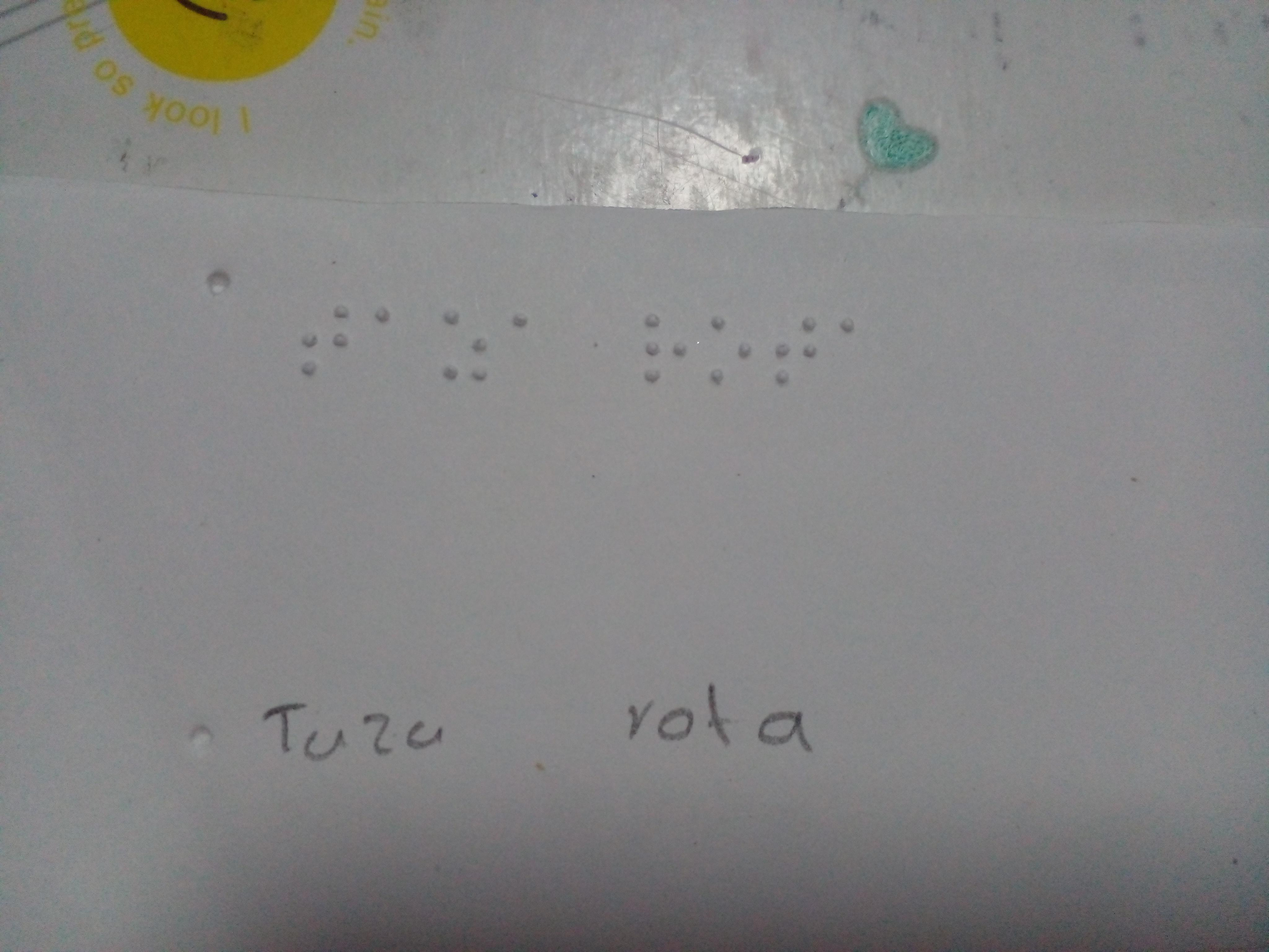a: (505, 307, 542, 346), (829, 307, 863, 349), (366, 298, 400, 339)
o: (702, 307, 753, 394)
r: (626, 299, 694, 384)
t: (293, 291, 358, 387), (765, 308, 818, 390)
z: (437, 304, 497, 400)
